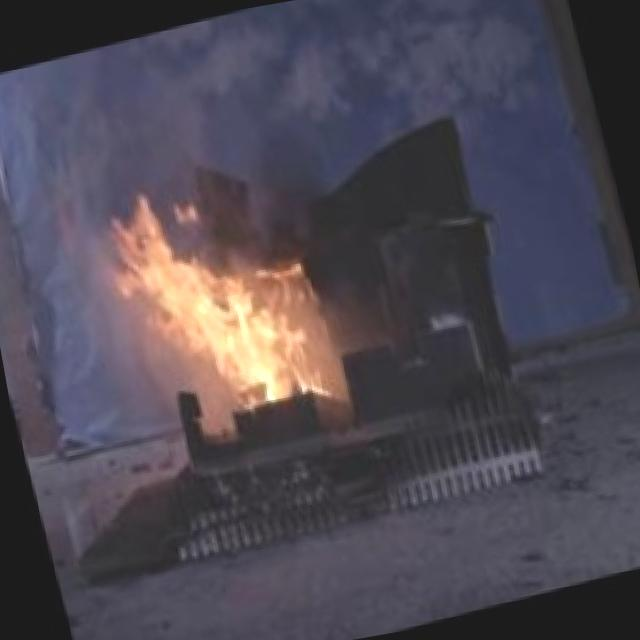fire: (94, 144, 353, 449)
